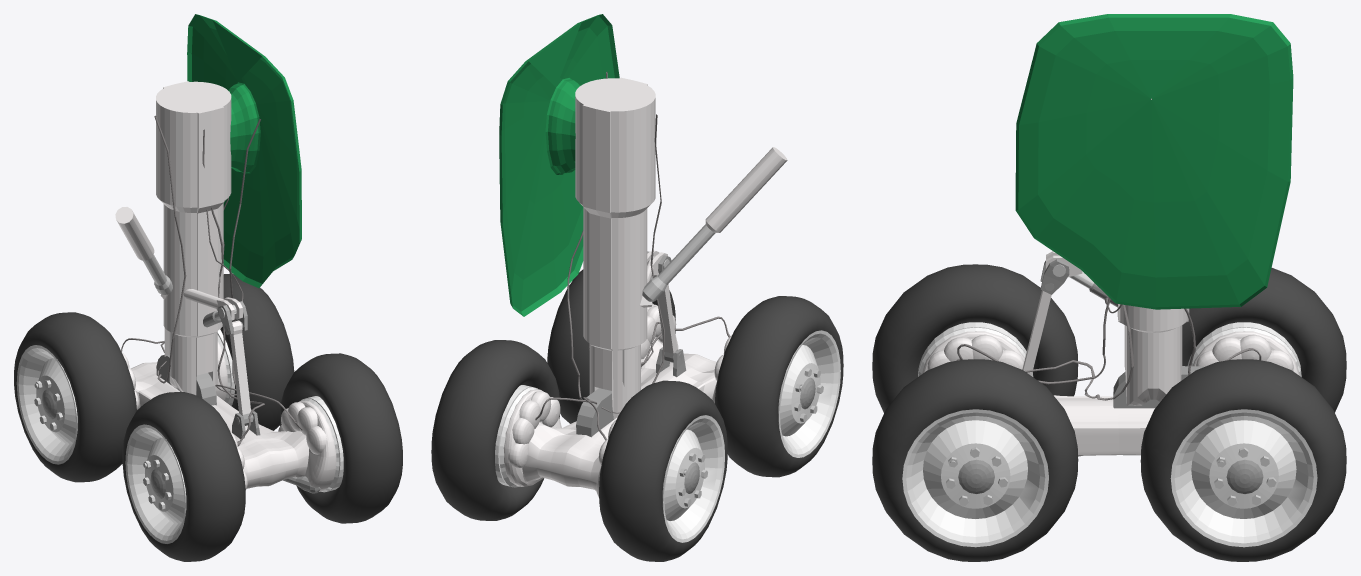
Rendered from A320_Landing_Gear.fbx.
3 renders of one model, left to right at view 1: azimuth 30°, elevation 25°; view 2: azimuth 150°, elevation 25°; view 3: azimuth 270°, elevation 25°, orthographic. The views are drawn at different scales.
Visible parts, largest first — view 1: Cylinder.048; view 2: Cylinder.048; view 3: Cylinder.048.
Boxes of the visible parts, left/top/right/bottom form: Cylinder.048: left=14, top=14, right=402, bottom=561; Cylinder.048: left=431, top=14, right=843, bottom=561; Cylinder.048: left=872, top=14, right=1346, bottom=561.
Bounding box in the file's own units: 73.44 × 133 × 108.
